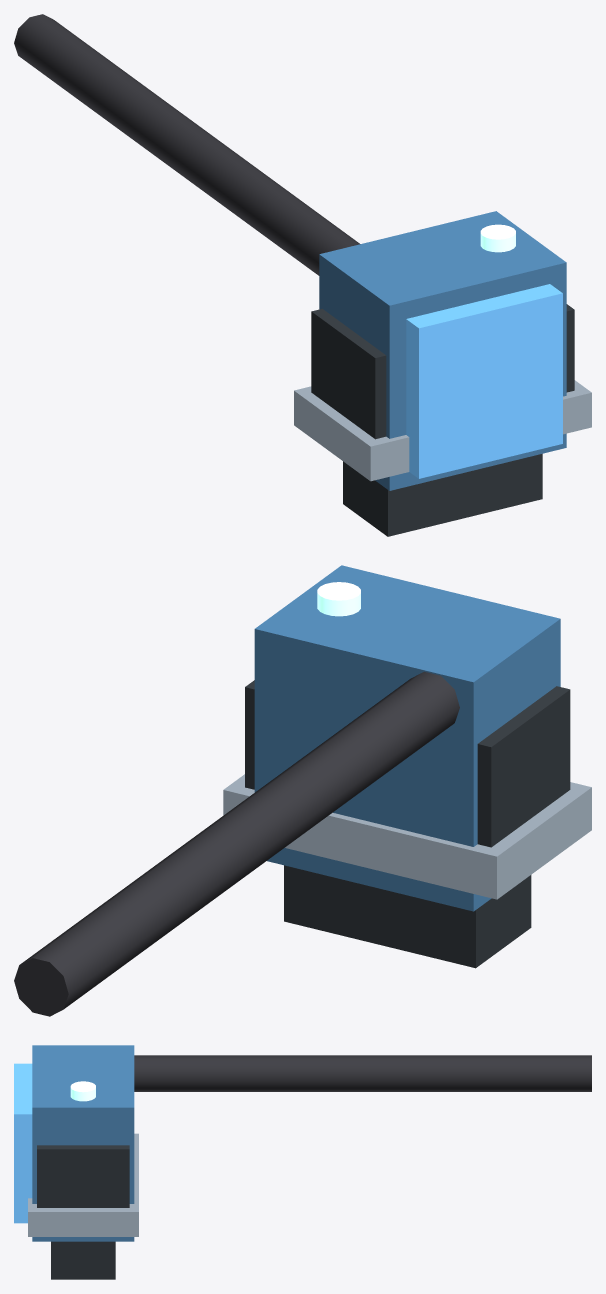
File: obd.glb
3 views of the same model, one above another, from view 1: azimuth 30°, elevation 25°; view 2: azimuth 150°, elevation 25°; view 3: azimuth 270°, elevation 25° (orthographic). The views are drawn at different scales.
Parts seen in each view (by area): view 1: dongle_top, dongle_body, dongle_cable, dongle_plug, port_shell, port_rim, dongle_led; view 2: dongle_body, dongle_cable, port_rim, dongle_plug, port_shell, dongle_led; view 3: dongle_cable, dongle_body, port_shell, port_rim, dongle_top, dongle_plug, dongle_led.
Part boxes in pixels (bbox=[...]): dongle_top: bbox=[406, 284, 562, 478]; dongle_body: bbox=[319, 211, 566, 490]; dongle_cable: bbox=[14, 14, 360, 275]; dongle_plug: bbox=[343, 453, 542, 536]; port_shell: bbox=[311, 304, 574, 439]; port_rim: bbox=[294, 380, 591, 481]; dongle_led: bbox=[480, 224, 515, 252]; dongle_body: bbox=[254, 565, 560, 911]; dongle_cable: bbox=[14, 671, 459, 1016]; port_rim: bbox=[223, 774, 591, 899]; dongle_plug: bbox=[284, 865, 531, 968]; port_shell: bbox=[245, 680, 570, 847]; dongle_led: bbox=[317, 582, 360, 616]; dongle_cable: bbox=[134, 1055, 591, 1091]; dongle_body: bbox=[32, 1045, 134, 1241]; port_shell: bbox=[37, 1145, 129, 1207]; port_rim: bbox=[28, 1133, 138, 1236]; dongle_top: bbox=[14, 1063, 32, 1223]; dongle_plug: bbox=[51, 1241, 115, 1279]; dongle_led: bbox=[70, 1081, 95, 1101].
Size of the model in its own units: 0.2 by 0.221 by 0.625.
